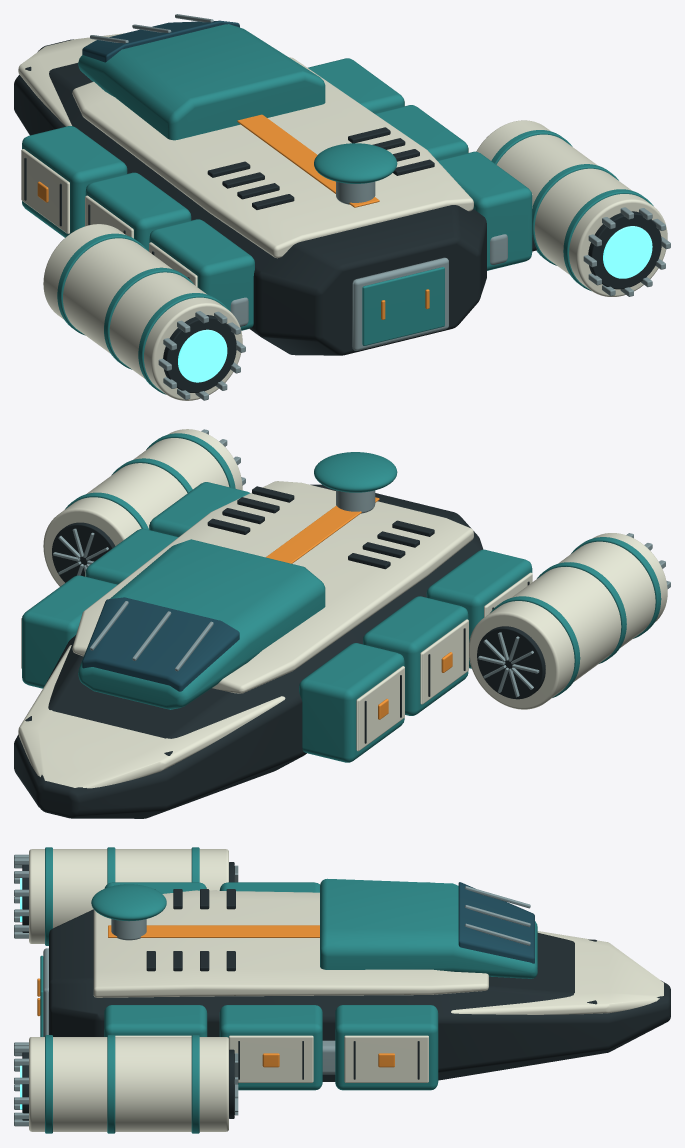
File: kestrel.glb
The picture shows the model from 3 angles, top to bottom: view 1: azimuth 30°, elevation 25°; view 2: azimuth 150°, elevation 25°; view 3: azimuth 270°, elevation 25°; orthographic projection. The views are drawn at different scales.
Parts seen in each view (by area): view 1: Dorsal ceramic armor, Raised flight cabin, Pressure hull, Windshield structural mullion, Drive emitter, Bay lock, Panoramic forward glazing; view 2: Dorsal ceramic armor, Raised flight cabin, Pressure hull, Panoramic forward glazing, Windshield structural mullion, Bay lock; view 3: Dorsal ceramic armor, Raised flight cabin, Pressure hull, Windshield structural mullion, Panoramic forward glazing, Bay lock.
Boxes of the visible parts, x1,y1,x2,y2 form: Dorsal ceramic armor: (18, 33, 667, 400); Raised flight cabin: (22, 24, 653, 394); Pressure hull: (14, 39, 661, 392); Windshield structural mullion: (90, 14, 670, 400); Drive emitter: (178, 226, 652, 382); Bay lock: (37, 114, 429, 319); Panoramic forward glazing: (82, 20, 239, 62); Dorsal ceramic armor: (18, 429, 667, 788); Raised flight cabin: (22, 433, 661, 762); Pressure hull: (14, 484, 545, 818); Panoramic forward glazing: (82, 597, 239, 691); Windshield structural mullion: (53, 429, 670, 697); Bay lock: (266, 497, 452, 719); Dorsal ceramic armor: (29, 849, 663, 1131); Raised flight cabin: (40, 847, 537, 1133); Pressure hull: (22, 862, 670, 1120); Windshield structural mullion: (14, 854, 530, 1126); Panoramic forward glazing: (458, 882, 534, 963); Bay lock: (37, 925, 394, 1067).
Bounding box in the file's own units: 12.22 × 3.83 × 14.79.
